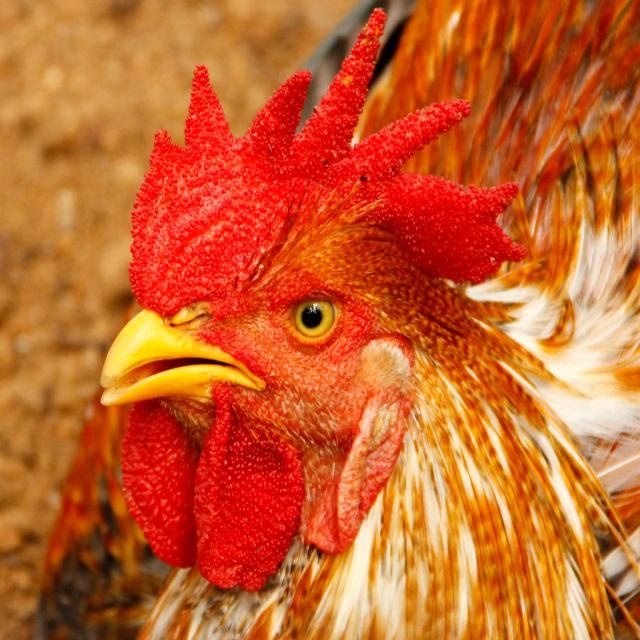Chicken: (98, 0, 640, 640)
